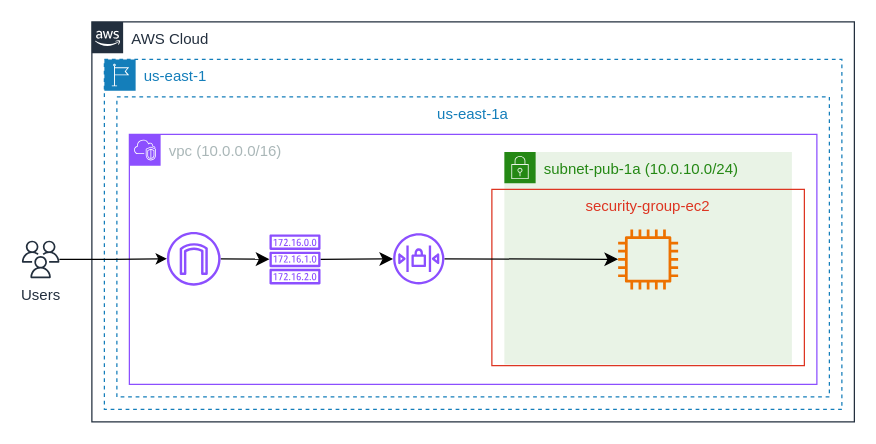
The diagram is 876 pixels wide and 444 high, and some of its shapes have lost their labels. Here are the shapes that lost their labels. From the top down, the centre of each, then its label:
[193,258]: igw
[294,259]: route-table-pub
[418,258]: network-acl-pub
[648,259]: Ubuntu 22
